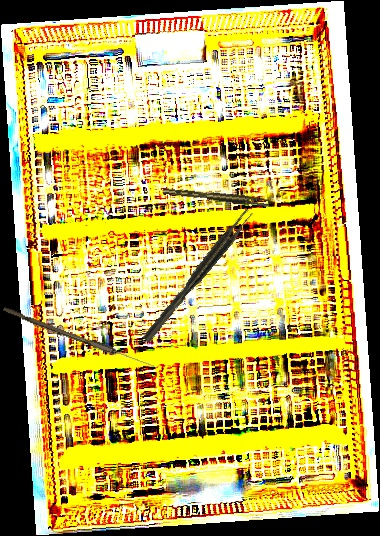Surgical Spoon: (1, 306, 156, 370)
Tissue Forceps: (138, 206, 256, 344), (162, 182, 271, 211)
